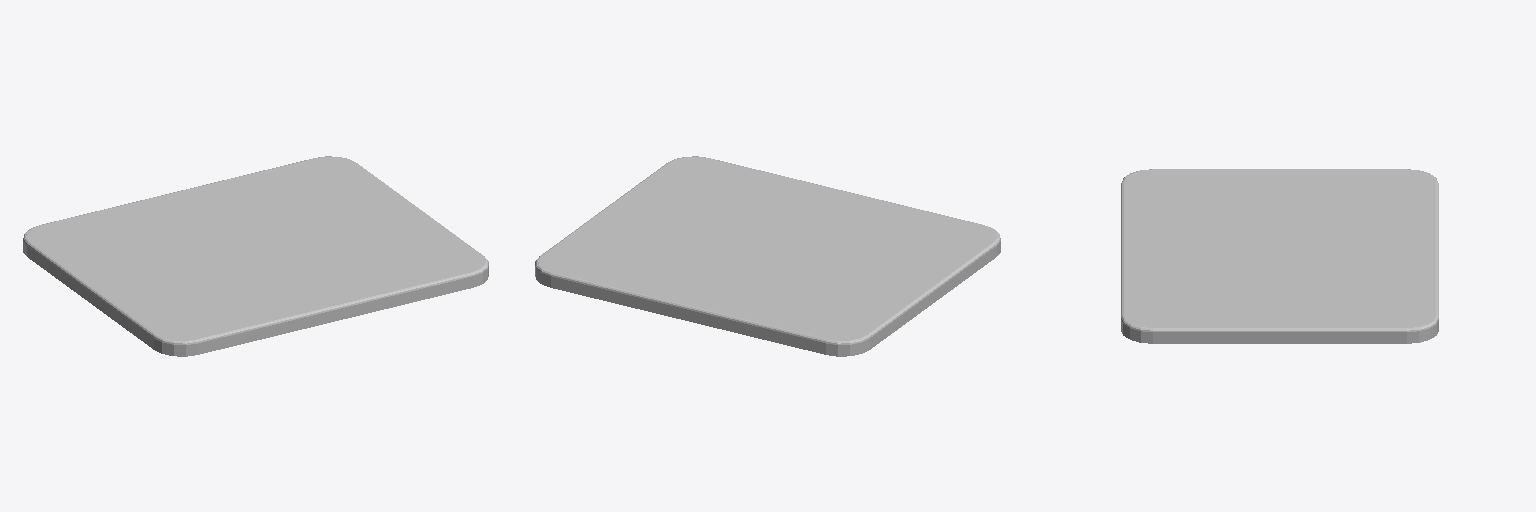
The model's file is floor_base.obj.
3 views of the same model, side by side, from view 1: azimuth 30°, elevation 25°; view 2: azimuth 150°, elevation 25°; view 3: azimuth 270°, elevation 25° (orthographic).
Visible parts, largest first — view 1: floor_base; view 2: floor_base; view 3: floor_base.
Boxes of the visible parts, x1=… form: floor_base: x1=23, y1=156, x2=488, y2=356; floor_base: x1=535, y1=156, x2=1000, y2=356; floor_base: x1=1121, y1=169, x2=1438, y2=343.
Size of the model in its own units: 12 by 0.5 by 10.